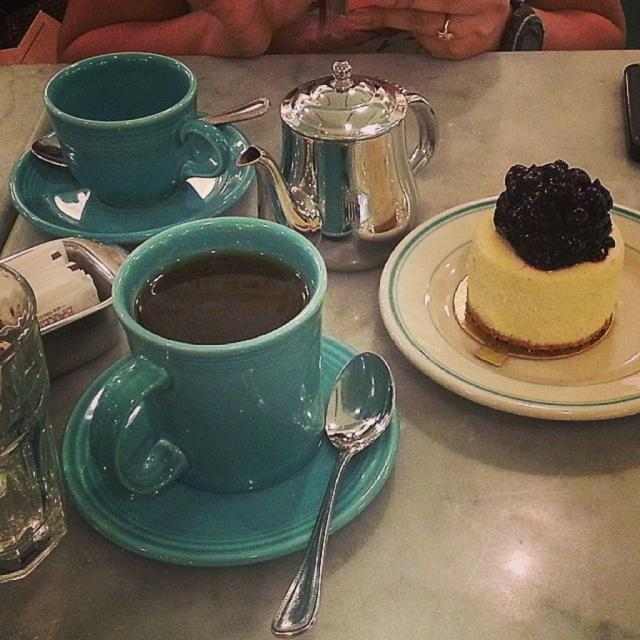Coffee: (131, 248, 311, 349)
Tea: (132, 252, 314, 348)
